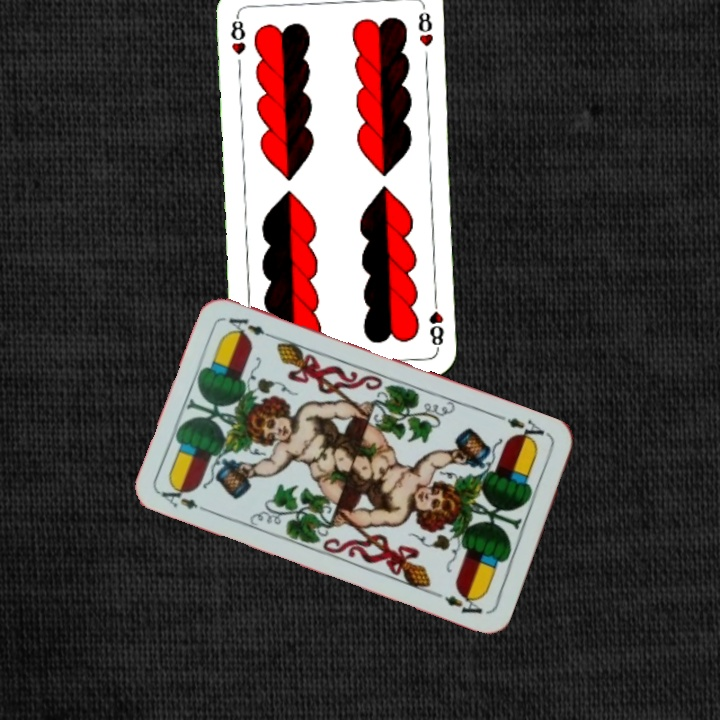EA: (157, 479, 214, 516), (503, 413, 552, 447)
H8: (425, 293, 447, 353), (226, 11, 249, 58)
